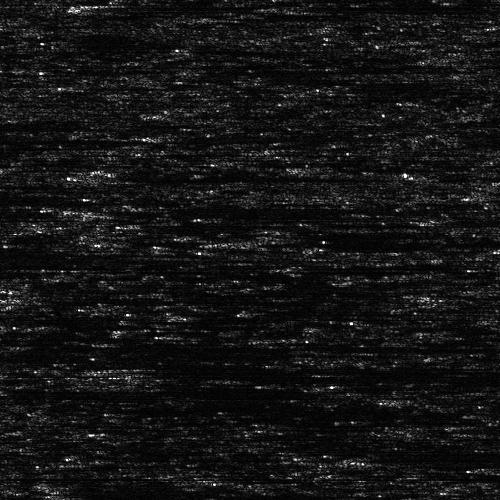object: (57, 0, 172, 13), (100, 109, 225, 120), (30, 174, 155, 183), (13, 490, 106, 500), (121, 133, 194, 140), (2, 294, 75, 301), (45, 208, 118, 213), (164, 312, 237, 317), (202, 239, 255, 244), (191, 66, 222, 71), (115, 370, 146, 373), (0, 389, 15, 394), (0, 344, 21, 347)
shadow: (0, 135, 249, 148), (0, 247, 164, 266), (93, 174, 330, 183), (114, 0, 271, 13), (0, 389, 335, 394), (158, 133, 394, 140), (163, 109, 242, 120), (60, 490, 146, 500), (5, 344, 264, 347), (39, 294, 126, 301), (0, 123, 116, 128), (0, 196, 100, 201), (201, 312, 289, 317), (228, 239, 314, 244), (82, 208, 163, 213), (207, 66, 287, 71), (131, 370, 219, 373), (0, 77, 11, 88)
